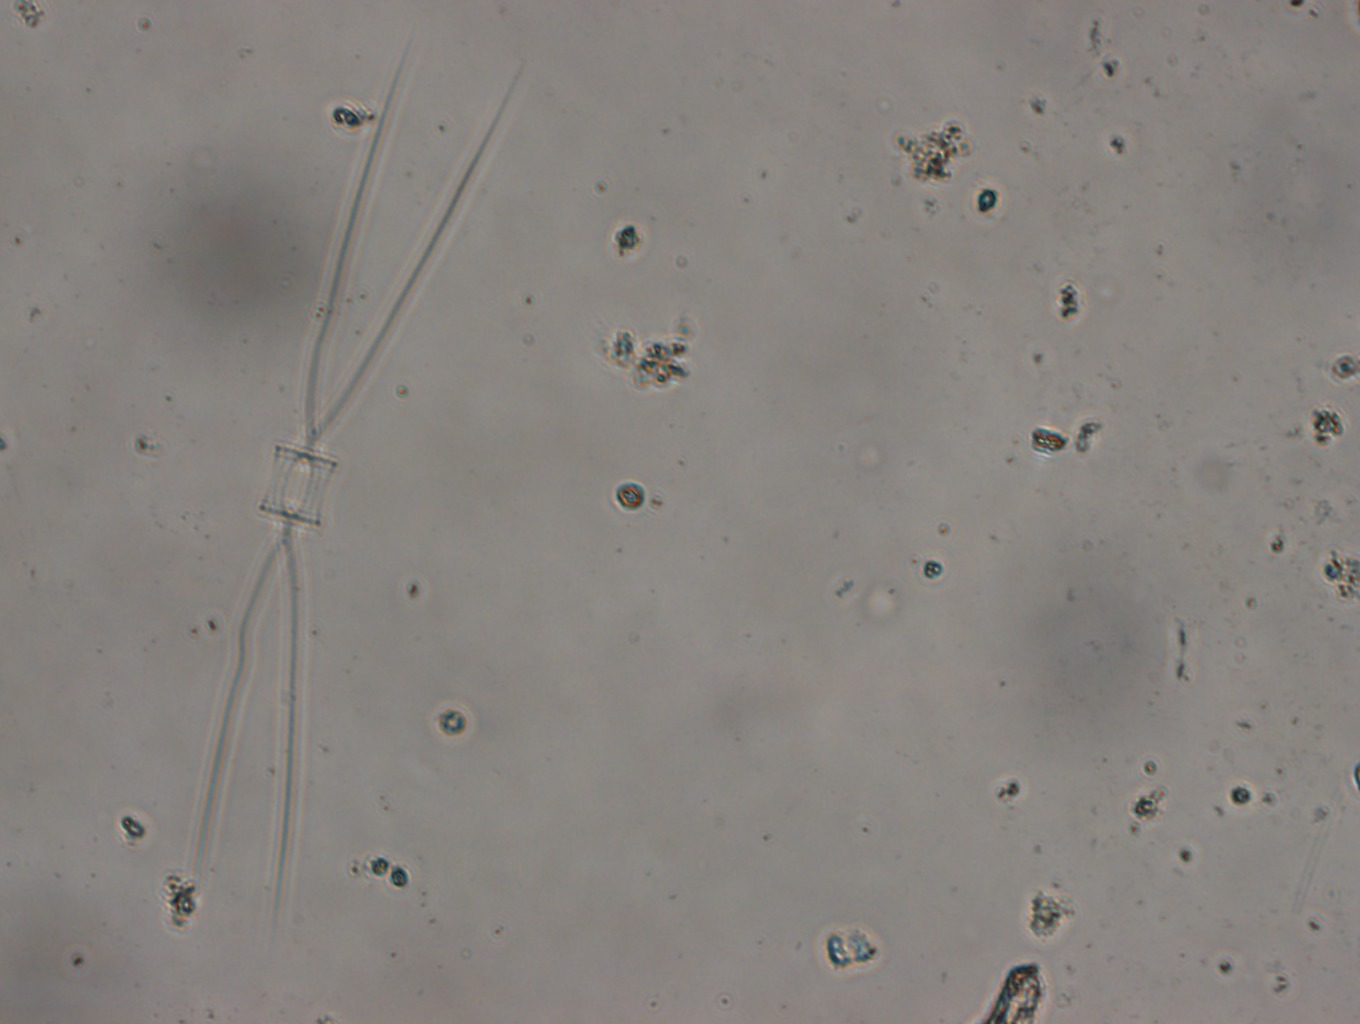chaetoceros: (169, 28, 532, 906)
